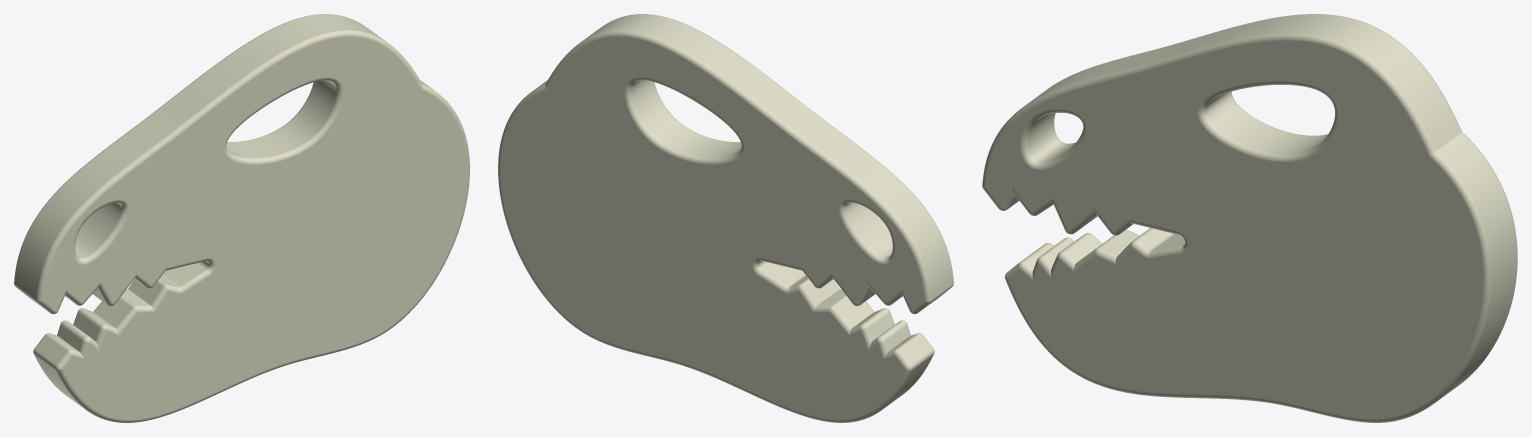
Rendered from DINOSAUR.fbx.
The picture shows the model from 3 angles, left to right: view 1: azimuth 30°, elevation 25°; view 2: azimuth 150°, elevation 25°; view 3: azimuth 330°, elevation 25°; orthographic projection. The views are drawn at different scales.
Visible parts, largest first — view 1: daukhunglong; view 2: daukhunglong; view 3: daukhunglong.
Boxes of the visible parts, box(x1,y1,x2,y2) form: daukhunglong: box(14, 14, 469, 422); daukhunglong: box(498, 14, 953, 422); daukhunglong: box(982, 14, 1517, 422).
Size of the model in its own units: 93.69 by 71.05 by 10.
